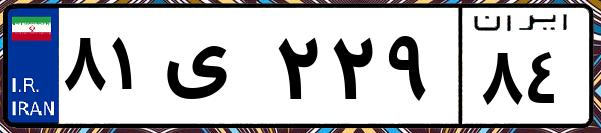1: (110, 28, 158, 98)
2: (270, 28, 330, 110), (330, 28, 385, 110)
4: (525, 38, 570, 115)
8: (57, 26, 110, 100), (475, 38, 525, 113)
9: (385, 28, 445, 110)
ی: (158, 20, 270, 120)
